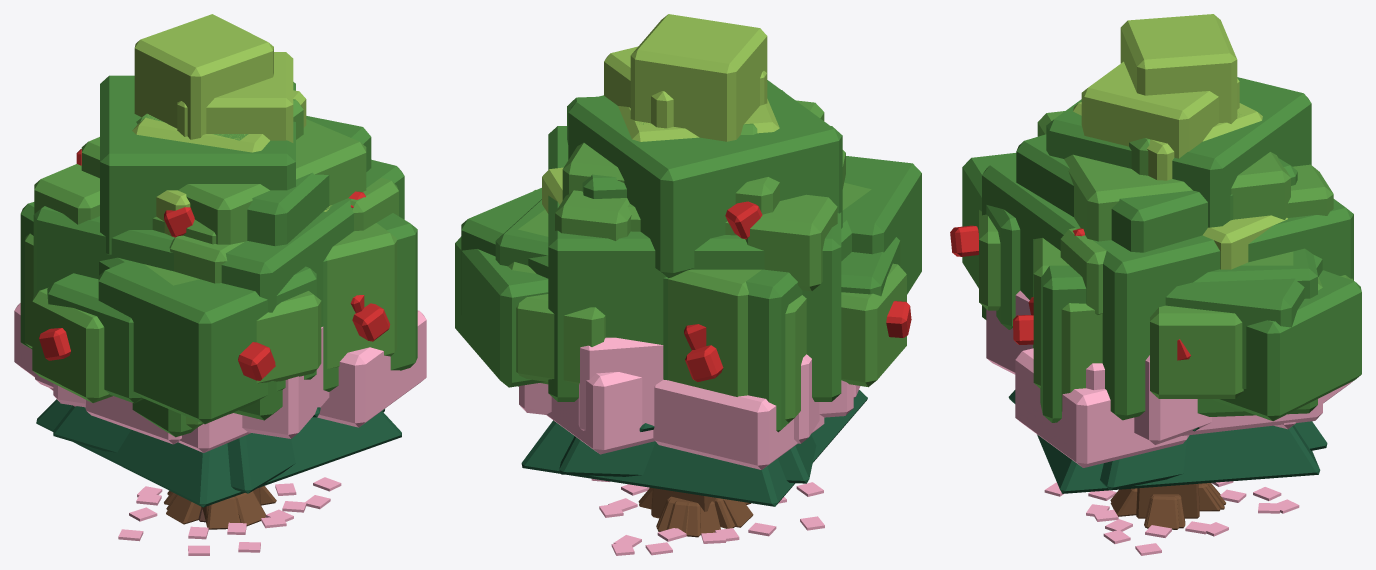
Rendered from w1_trees.fbx.
3 views of the same model, side by side, from view 1: azimuth 30°, elevation 25°; view 2: azimuth 150°, elevation 25°; view 3: azimuth 270°, elevation 25° (orthographic). The views are drawn at different scales.
Parts seen in each view (by area): view 1: AppleA.Leaves, OakA.Leaves, AppleB.Leaves, BirchB.Leaves, OakB.Leaves, PineA.Needles, BlossomB.Blossom, BirchA.Leaves, PineB.Needles, BlossomA.Blossom, AppleA.Apples, AppleB.Apples (+4 smaller); view 2: AppleA.Leaves, OakA.Leaves, AppleB.Leaves, BirchB.Leaves, OakB.Leaves, BlossomB.Blossom, BlossomA.Blossom, PineA.Needles, PineB.Needles, BirchA.Leaves, AppleB.Apples, AppleA.Trunk (+5 smaller); view 3: AppleA.Leaves, AppleB.Leaves, OakA.Leaves, BirchB.Leaves, BirchA.Leaves, BlossomB.Blossom, PineA.Needles, OakB.Leaves, BlossomA.Blossom, PineB.Needles, AppleA.Trunk, BlossomA.FallenPetals (+4 smaller).
Boxes of the visible parts, <box> form: AppleA.Leaves: <box>33,75,404,424</box>; OakA.Leaves: <box>34,99,397,383</box>; AppleB.Leaves: <box>20,116,417,437</box>; BirchB.Leaves: <box>132,14,331,237</box>; OakB.Leaves: <box>25,170,398,429</box>; PineA.Needles: <box>36,399,401,507</box>; BlossomB.Blossom: <box>14,303,426,452</box>; BirchA.Leaves: <box>177,52,293,142</box>; PineB.Needles: <box>53,405,384,493</box>; BlossomA.Blossom: <box>53,327,329,444</box>; AppleA.Apples: <box>76,149,364,380</box>; AppleB.Apples: <box>39,191,390,360</box>; AppleA.Leaves: <box>461,80,921,401</box>; OakA.Leaves: <box>518,100,871,396</box>; AppleB.Leaves: <box>455,90,900,432</box>; BirchB.Leaves: <box>618,14,779,141</box>; OakB.Leaves: <box>508,150,906,422</box>; BlossomB.Blossom: <box>519,354,824,469</box>; BlossomA.Blossom: <box>546,337,860,454</box>; PineA.Needles: <box>521,390,867,506</box>; PineB.Needles: <box>559,434,816,483</box>; BirchA.Leaves: <box>542,46,767,213</box>; AppleB.Apples: <box>685,301,911,381</box>; AppleA.Trunk: <box>638,487,750,537</box>; AppleA.Leaves: <box>962,77,1353,420</box>; AppleB.Leaves: <box>1016,134,1361,422</box>; OakA.Leaves: <box>979,111,1333,398</box>; BirchB.Leaves: <box>1073,14,1262,180</box>; BirchA.Leaves: <box>1081,61,1287,269</box>; BlossomB.Blossom: <box>1015,348,1322,467</box>; PineA.Needles: <box>1037,425,1320,493</box>; OakB.Leaves: <box>1060,228,1353,411</box>; BlossomA.Blossom: <box>986,290,1352,444</box>; PineB.Needles: <box>1008,390,1327,490</box>; AppleA.Trunk: <box>1110,483,1225,529</box>; BlossomA.FallenPetals: <box>1044,481,1299,543</box>.
Size of the model in its own units: 11.75 by 14.1 by 11.33.
